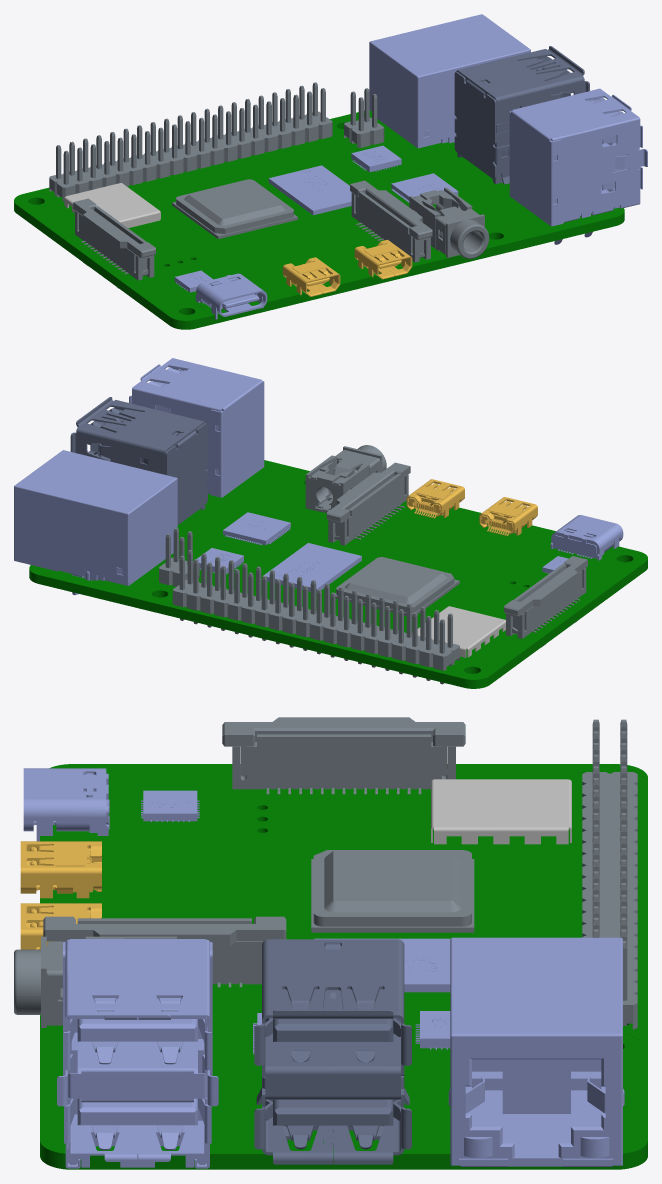
Rendered from raspberry-pi-real.glb.
The picture shows the model from 3 angles, top to bottom: view 1: azimuth 30°, elevation 25°; view 2: azimuth 150°, elevation 25°; view 3: azimuth 270°, elevation 25°; orthographic projection. The views are drawn at different scales.
Parts seen in each view (by area): view 1: PCB, RPi4ModelB, 2X USB2.0 PORTS, RPi4ModelB, Gigabit Ethernet Port, RPi4ModelB, 2X USB3.0 PORTS, RPi4ModelB, STEP component 9, STEP component 3, Female Micro HDMI Connector, RPi4ModelB (×2), STEP component 70, 91D77 D9WHV 778K, 4 GB LPDDR4 SDRAM, RPi4ModelB, STEP component 65, Cypress CYW43455 Wireless Module Cover, RPi4ModelB, Female USB Type C Connector, RPi4ModelB (+9 smaller); view 2: PCB, RPi4ModelB, Gigabit Ethernet Port, RPi4ModelB, 2X USB2.0 PORTS, RPi4ModelB, 2X USB3.0 PORTS, RPi4ModelB, STEP component 9, STEP component 3, Female Micro HDMI Connector, RPi4ModelB (×2), 91D77 D9WHV 778K, 4 GB LPDDR4 SDRAM, RPi4ModelB, STEP component 65, STEP component 70, Female USB Type C Connector, RPi4ModelB, STEP component 87 (+7 smaller); view 3: PCB, RPi4ModelB, Gigabit Ethernet Port, RPi4ModelB, 2X USB2.0 PORTS, RPi4ModelB, 2X USB3.0 PORTS, RPi4ModelB, STEP component 3, STEP component 87, Cypress CYW43455 Wireless Module Cover, RPi4ModelB, STEP component 9, Female Micro HDMI Connector, RPi4ModelB (×2), Female USB Type C Connector, RPi4ModelB, STEP component 88, STEP component 66 (+7 smaller).
Boxes of the visible parts, <box> form: PCB, RPi4ModelB: <box>14,110,624,329</box>; 2X USB2.0 PORTS, RPi4ModelB: <box>509,88,647,244</box>; Gigabit Ethernet Port, RPi4ModelB: <box>369,14,530,148</box>; 2X USB3.0 PORTS, RPi4ModelB: <box>454,46,589,184</box>; STEP component 9: <box>49,111,332,201</box>; STEP component 3: <box>176,179,293,233</box>; Female Micro HDMI Connector, RPi4ModelB (×2): <box>282,239,412,296</box>; STEP component 70: <box>409,187,489,258</box>; 91D77 D9WHV 778K, 4 GB LPDDR4 SDRAM, RPi4ModelB: <box>268,165,351,215</box>; STEP component 65: <box>351,191,430,262</box>; Cypress CYW43455 Wireless Module Cover, RPi4ModelB: <box>64,183,160,228</box>; Female USB Type C Connector, RPi4ModelB: <box>195,273,267,319</box>; PCB, RPi4ModelB: <box>29,460,647,688</box>; Gigabit Ethernet Port, RPi4ModelB: <box>14,450,177,595</box>; 2X USB2.0 PORTS, RPi4ModelB: <box>129,358,264,497</box>; 2X USB3.0 PORTS, RPi4ModelB: <box>70,397,207,524</box>; STEP component 9: <box>172,579,459,670</box>; STEP component 3: <box>336,557,454,612</box>; Female Micro HDMI Connector, RPi4ModelB (×2): <box>406,479,537,536</box>; 91D77 D9WHV 778K, 4 GB LPDDR4 SDRAM, RPi4ModelB: <box>263,543,361,592</box>; STEP component 65: <box>328,473,408,545</box>; STEP component 70: <box>305,445,386,512</box>; Female USB Type C Connector, RPi4ModelB: <box>550,515,623,560</box>; STEP component 87: <box>506,563,586,638</box>; PCB, RPi4ModelB: <box>40,764,647,1169</box>; Gigabit Ethernet Port, RPi4ModelB: <box>448,937,624,1166</box>; 2X USB2.0 PORTS, RPi4ModelB: <box>57,939,218,1168</box>; 2X USB3.0 PORTS, RPi4ModelB: <box>254,939,411,1164</box>; STEP component 3: <box>313,850,471,926</box>; STEP component 87: <box>232,734,455,789</box>; Cypress CYW43455 Wireless Module Cover, RPi4ModelB: <box>431,779,571,844</box>; STEP component 9: <box>582,772,637,1029</box>; Female Micro HDMI Connector, RPi4ModelB (×2): <box>20,841,101,949</box>; Female USB Type C Connector, RPi4ModelB: <box>23,768,109,841</box>; STEP component 88: <box>222,717,465,776</box>; STEP component 66: <box>43,916,286,946</box>.
Bounding box in the file's own units: 88.99 × 19.9 × 58.4.
